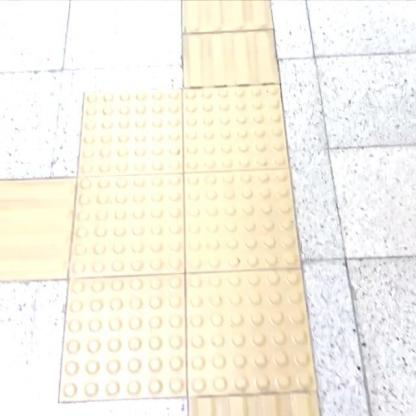podotacti: (51, 61, 328, 416), (186, 0, 280, 87)
